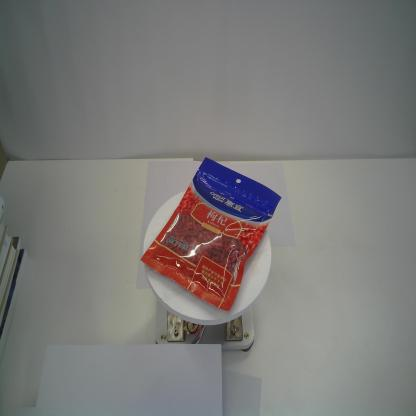Dried Fruit: (140, 156, 282, 313)
